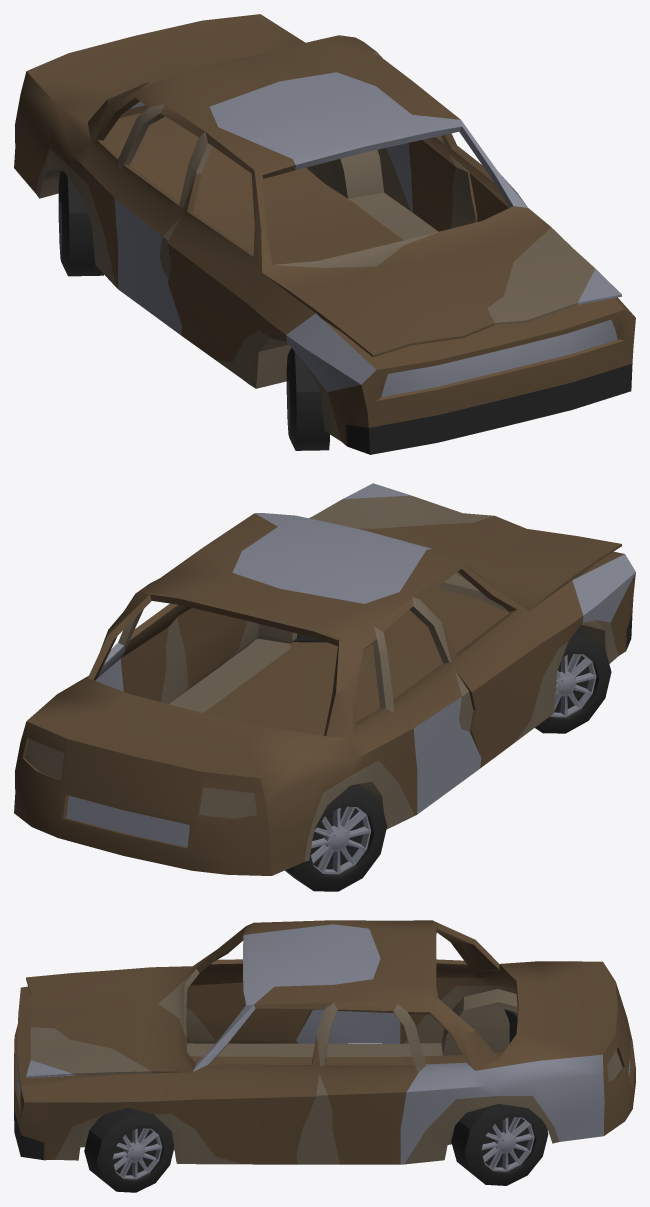
Rendered from car-wreck.glb.
3 renders of one model, top to bottom at view 1: azimuth 30°, elevation 25°; view 2: azimuth 150°, elevation 25°; view 3: azimuth 270°, elevation 25°, orthographic. The views are drawn at different scales.
Parts seen in each view (by area): view 1: Debris_BrokenCar; view 2: Debris_BrokenCar; view 3: Debris_BrokenCar.
Part boxes in pixels (x1=…): Debris_BrokenCar: x1=14, y1=14, x2=635, y2=454; Debris_BrokenCar: x1=14, y1=483, x2=635, y2=891; Debris_BrokenCar: x1=14, y1=920, x2=635, y2=1192.
Bounding box in the file's own units: 2.64 × 1.76 × 5.49.
